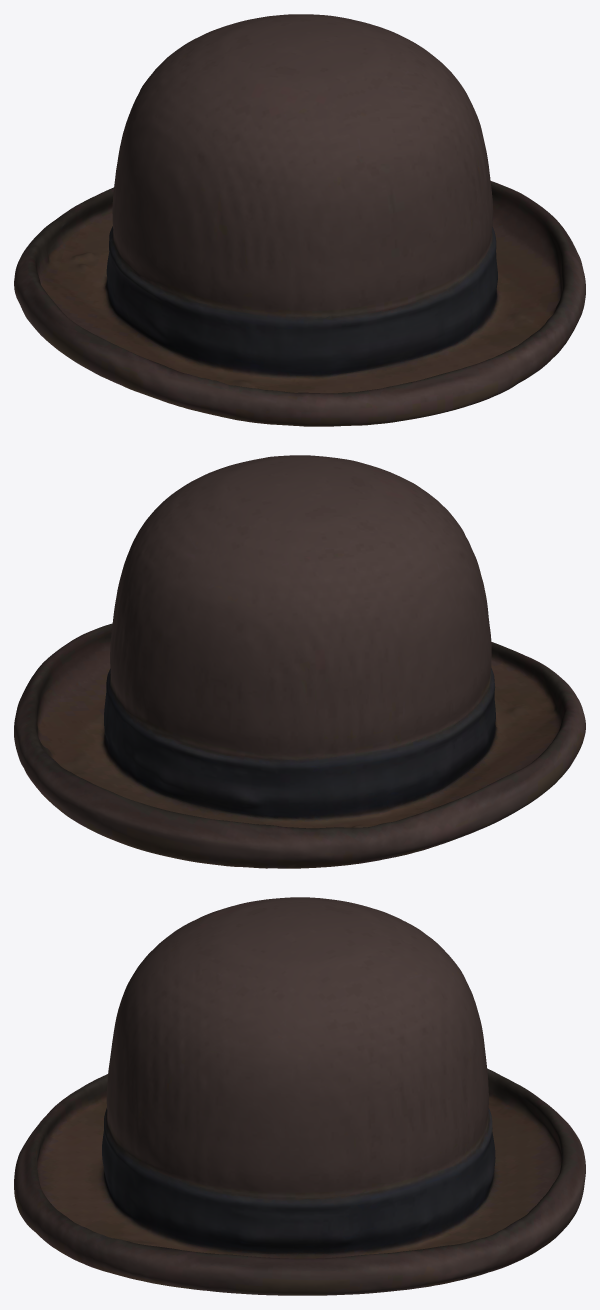
The model's file is a273c5e739f4_bowler_hat__3d_asse.fbx.
3 renders of one model, top to bottom at view 1: azimuth 30°, elevation 25°; view 2: azimuth 150°, elevation 25°; view 3: azimuth 270°, elevation 25°, orthographic.
Visible parts, largest first — view 1: high_poly; view 2: high_poly; view 3: high_poly.
Boxes of the visible parts, x1=… form: high_poly: x1=14, y1=14, x2=585, y2=426; high_poly: x1=14, y1=455, x2=585, y2=868; high_poly: x1=14, y1=897, x2=585, y2=1295.
Bounding box in the file's own units: 98.57 × 52.11 × 100.
